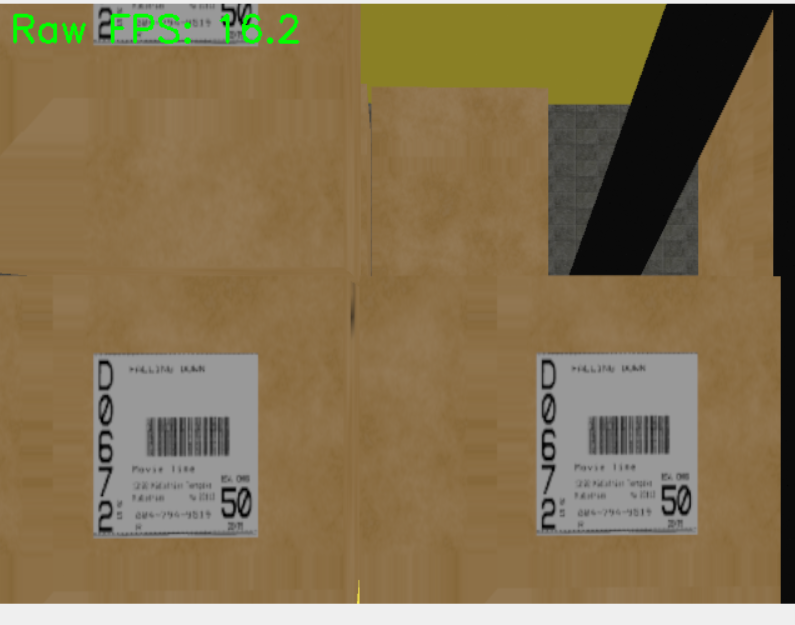barcode: (92, 353, 259, 541), (535, 350, 700, 535)
